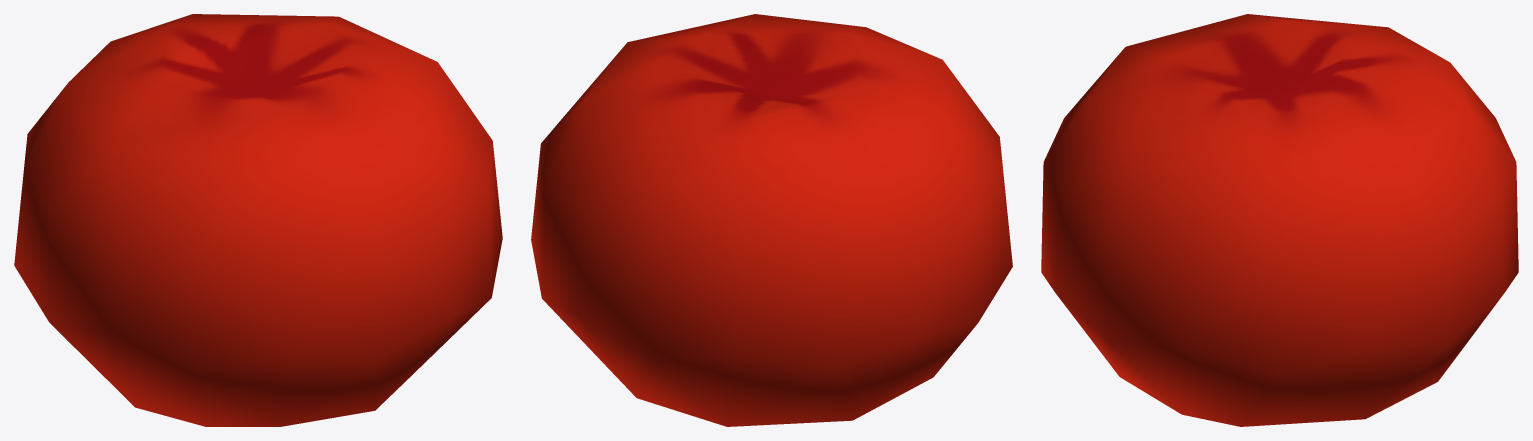
Rendered from OrangeFruit.fbx.
3 views of the same model, side by side, from view 1: azimuth 30°, elevation 25°; view 2: azimuth 150°, elevation 25°; view 3: azimuth 270°, elevation 25° (orthographic).
Visible parts, largest first — view 1: Tomato; view 2: Tomato; view 3: Tomato.
Boxes of the visible parts, left/top/right/bottom form: Tomato: left=14, top=14, right=502, bottom=426; Tomato: left=531, top=14, right=1012, bottom=426; Tomato: left=1041, top=14, right=1518, bottom=426.
Bounding box in the file's own units: 13.73 × 10.35 × 13.73.
